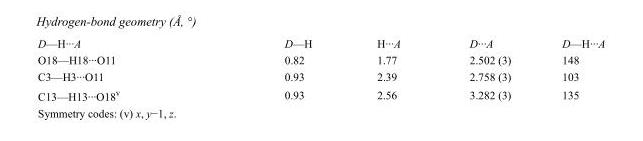table: (37, 36, 604, 102)
table column: (37, 36, 201, 102), (201, 36, 343, 102), (434, 36, 535, 102), (343, 36, 434, 102), (535, 36, 604, 102)
table row: (37, 84, 604, 102), (37, 67, 604, 84), (37, 51, 604, 67), (37, 36, 604, 51)
